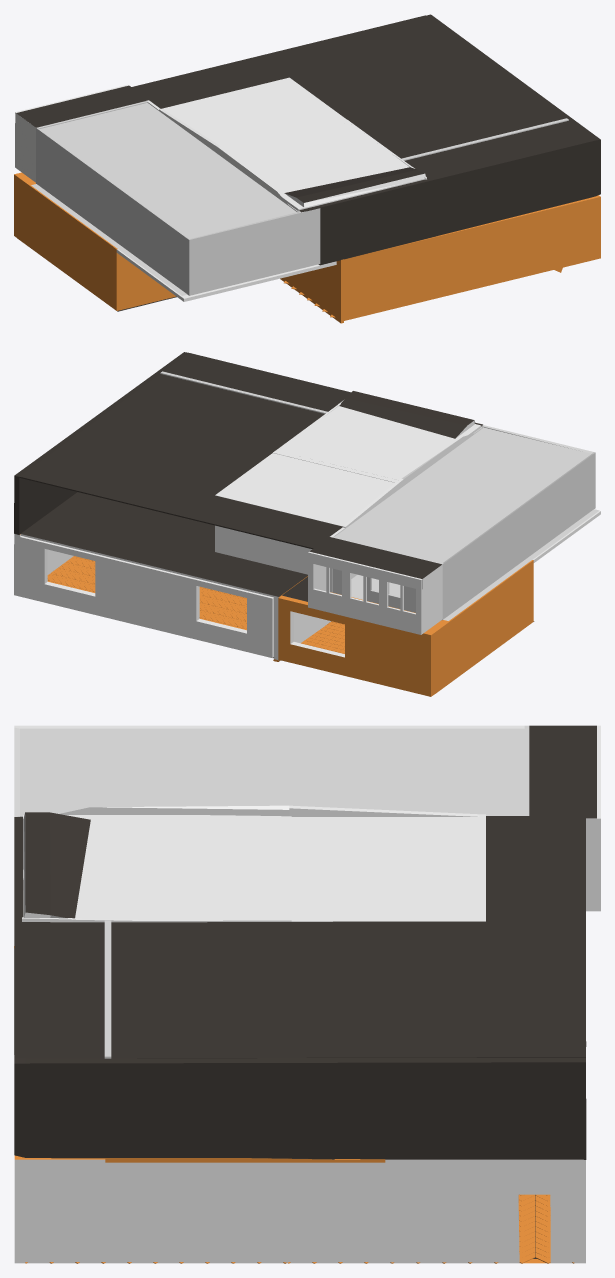
File: House.fbx
The picture shows the model from 3 angles, top to bottom: view 1: azimuth 30°, elevation 25°; view 2: azimuth 150°, elevation 25°; view 3: azimuth 270°, elevation 25°; orthographic projection. The views are drawn at different scales.
Parts seen in each view (by area): view 1: Cube.016, Cube.023, FirstFloor, Cube.018, Plane.001, Cube.017, Cube.021, Cube.003; view 2: FirstFloor, Cube.016, Cube.023, Cube.018, Plane.001, Cube.017, Cube.003, Cube.021; view 3: Cube.016, FirstFloor, Cube.018, Cube.023, Plane.001, Cube.021.
Boxes of the visible parts, x1=… form: Cube.016: x1=131, y1=14, x2=600, y2=265; Cube.023: x1=37, y1=103, x2=320, y2=295; FirstFloor: x1=14, y1=172, x2=600, y2=323; Cube.018: x1=146, y1=77, x2=426, y2=211; Plane.001: x1=15, y1=84, x2=148, y2=182; Cube.017: x1=31, y1=184, x2=187, y2=295; Cube.021: x1=401, y1=118, x2=568, y2=160; Cube.003: x1=36, y1=101, x2=147, y2=183; FirstFloor: x1=14, y1=492, x2=600, y2=696; Cube.016: x1=14, y1=352, x2=482, y2=548; Cube.023: x1=335, y1=425, x2=595, y2=618; Cube.018: x1=215, y1=391, x2=484, y2=592; Plane.001: x1=308, y1=537, x2=442, y2=634; Cube.017: x1=351, y1=509, x2=599, y2=620; Cube.003: x1=332, y1=536, x2=443, y2=620; Cube.021: x1=160, y1=371, x2=327, y2=413; Cube.016: x1=14, y1=816, x2=586, y2=1159; FirstFloor: x1=14, y1=946, x2=586, y2=1263; Cube.018: x1=18, y1=805, x2=485, y2=922; Cube.023: x1=14, y1=725, x2=524, y2=816; Plane.001: x1=529, y1=725, x2=600, y2=911; Cube.021: x1=104, y1=920, x2=111, y2=1058.
Bounding box in the file's own units: 4204 × 1274 × 3037.
